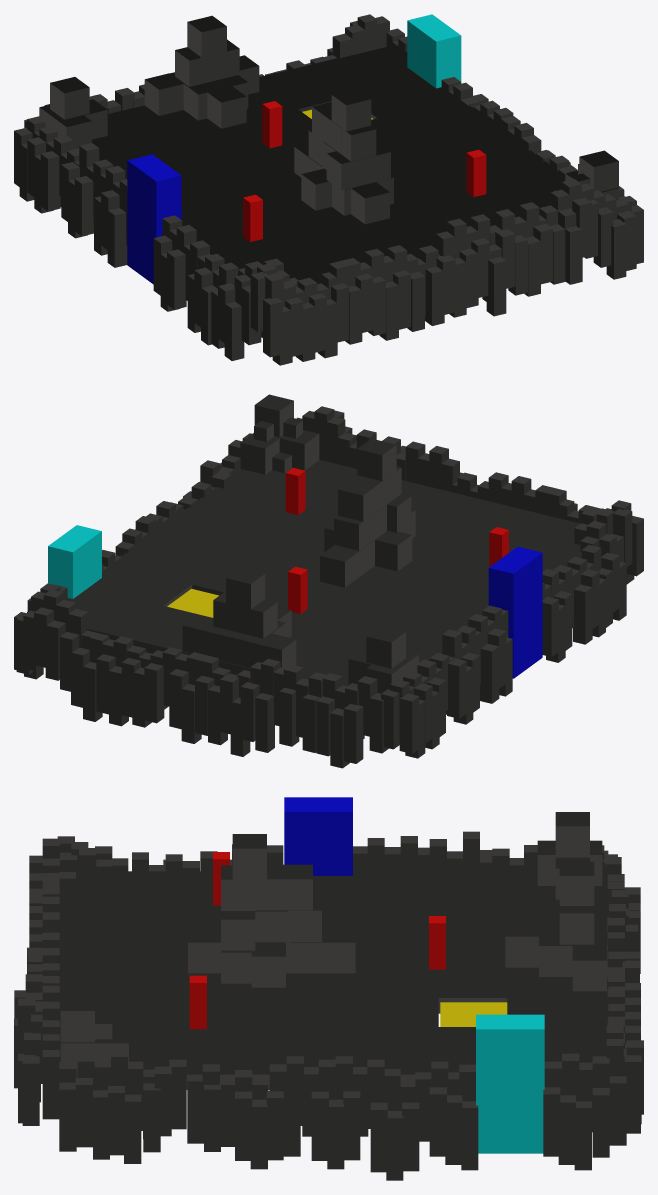
Rendered from Level1_b3.fbx.
3 views of the same model, one above another, from view 1: azimuth 30°, elevation 25°; view 2: azimuth 150°, elevation 25°; view 3: azimuth 270°, elevation 25° (orthographic). The views are drawn at different scales.
Parts seen in each view (by area): view 1: pCube29, pCube256, pCube257, pCube306, pCube307, pCube308; view 2: pCube29, pCube256, pCube257, pCube307, pCube186, pCube306, pCube308; view 3: pCube29, pCube257, pCube256, pCube186, pCube307, pCube306, pCube308.
Part boxes in pixels (x1,y1,x2,y2): pCube29: (14, 14, 643, 365); pCube256: (127, 154, 181, 284); pCube257: (407, 14, 461, 88); pCube306: (262, 101, 282, 148); pCube307: (466, 149, 486, 196); pCube308: (243, 194, 262, 241); pCube29: (14, 394, 643, 768); pCube256: (488, 546, 542, 678); pCube257: (48, 525, 101, 598); pCube307: (285, 467, 305, 514); pCube186: (167, 589, 218, 617); pCube306: (288, 566, 307, 613); pCube308: (489, 527, 508, 566); pCube29: (14, 812, 643, 1180); pCube257: (476, 1014, 544, 1153); pCube256: (284, 797, 352, 875); pCube186: (440, 1002, 507, 1026); pCube307: (189, 975, 206, 1029); pCube306: (429, 916, 445, 969); pCube308: (213, 852, 229, 905).
Bounding box in the file's own units: 6.26 × 2.75 × 7.22.
